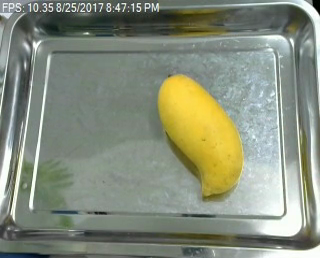Mango: (149, 66, 249, 194)
